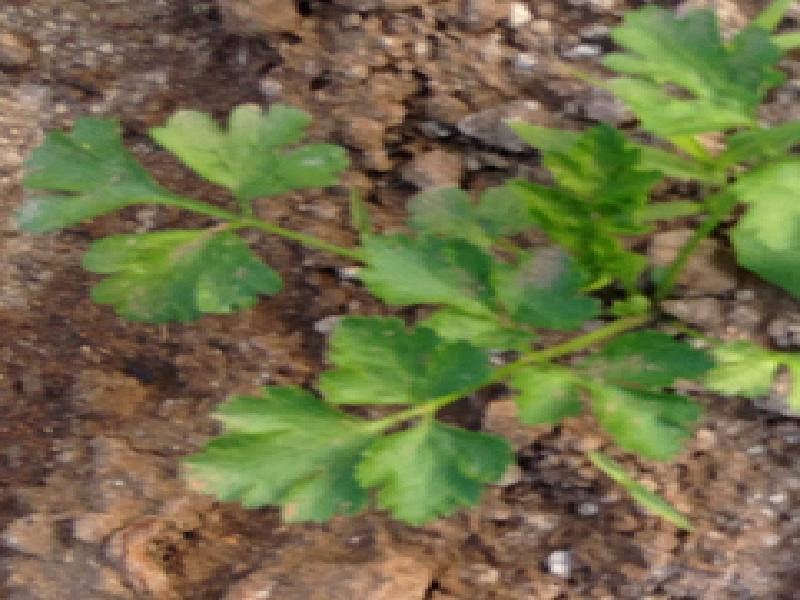radish: (35, 62, 800, 600)
